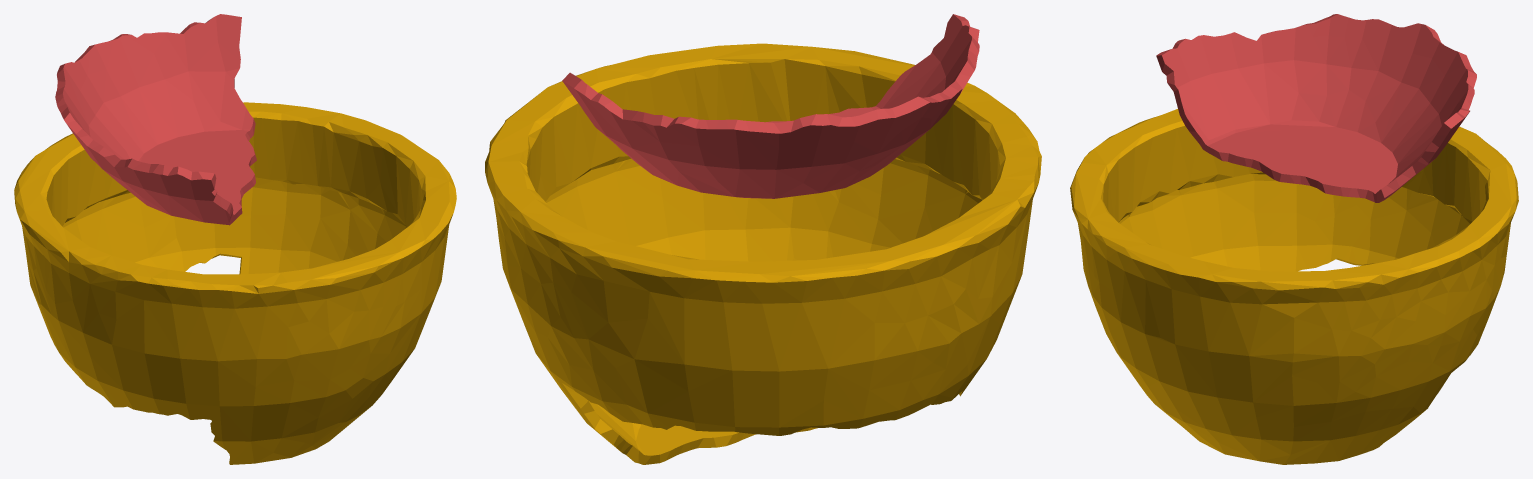
File: fractured_8_2pcs_transformed.glb
The picture shows the model from 3 angles, left to right: view 1: azimuth 30°, elevation 25°; view 2: azimuth 150°, elevation 25°; view 3: azimuth 270°, elevation 25°; orthographic projection. The views are drawn at different scales.
Parts seen in each view (by area): view 1: piece_0.obj, piece_1.obj; view 2: piece_0.obj, piece_1.obj; view 3: piece_0.obj, piece_1.obj.
Part boxes in pixels (x1,y1,x2,y2): piece_0.obj: (14, 102, 456, 464); piece_1.obj: (55, 14, 256, 225); piece_0.obj: (485, 43, 1041, 464); piece_1.obj: (562, 14, 979, 198); piece_0.obj: (1070, 109, 1518, 464); piece_1.obj: (1156, 14, 1476, 202).
Bounding box in the file's own units: 1 × 0.8403 × 0.999.
